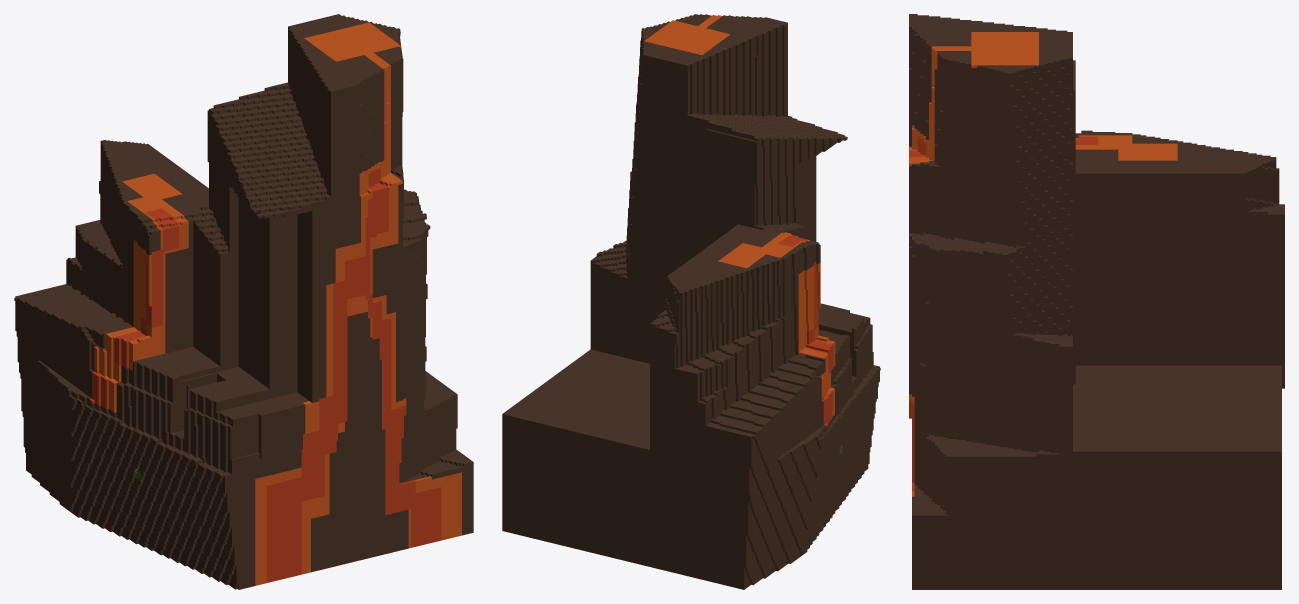
The model's file is Lava cave 0-2.obj.
The picture shows the model from 3 angles, left to right: view 1: azimuth 30°, elevation 25°; view 2: azimuth 150°, elevation 25°; view 3: azimuth 270°, elevation 25°; orthographic projection. The views are drawn at different scales.
Size of the model in its own units: 12.6 by 19.6 by 13.3.
1 material, 1 textured.
